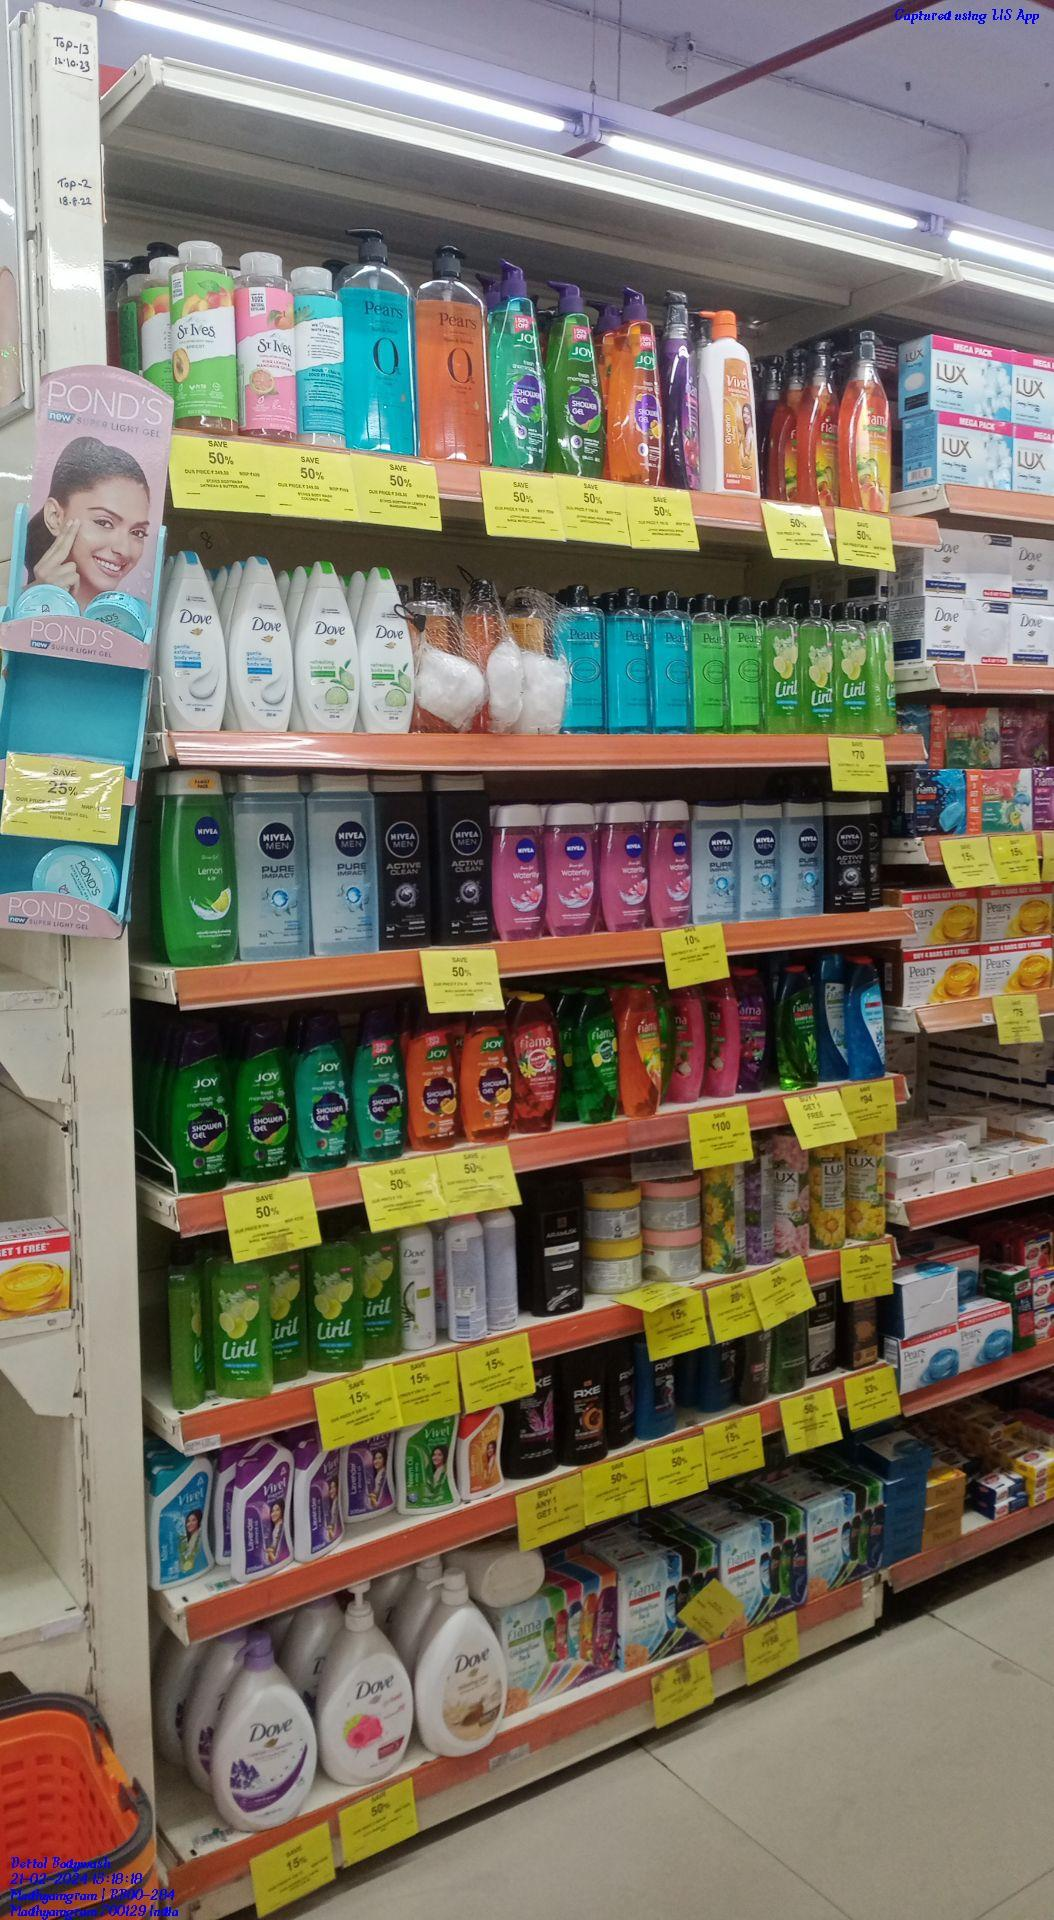Dove_Gentle_Exfoliating_Body_Wash_250ML: (161, 547, 228, 730), (227, 554, 295, 732)
Dove_Refreshing_Body_Wash_250ML: (295, 553, 358, 732), (360, 563, 413, 733)
Joy_Shower_Gel_Mandarin_and_Lemongrass_250ML: (405, 1014, 460, 1149), (461, 1014, 513, 1143)
Joy_Shower_Gel_Mint_and_Eucalyptus_250ML: (292, 1020, 350, 1171), (349, 1020, 404, 1164)
Liril_Lime_and_Tea_Tree_Oil_Body_Wash_250ML: (206, 1261, 274, 1396), (306, 1240, 363, 1375), (765, 595, 802, 736), (801, 595, 835, 733), (835, 597, 867, 733)
Nivea_Shower_Gel_Lemon_and_Oil_250ML: (160, 767, 238, 968)
Nivea_Shower_Gel_Waterlily_and_Oil_250ML: (544, 800, 600, 937), (491, 800, 544, 941), (598, 799, 648, 931), (648, 799, 691, 928)
Pears_Pure_Glycerin_and_Lemon_Flower_Extracts_Body_Wash_250ML: (692, 592, 728, 734), (728, 592, 765, 734)
Pears_Pure_Glycerin_and_Mint_Extracts_Body_Wash_250ML: (606, 584, 653, 736), (652, 585, 692, 736)
